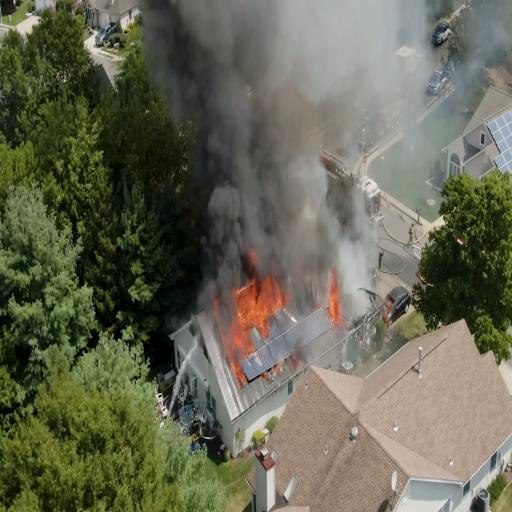fire: (211, 272, 287, 378), (323, 267, 342, 322)
smoke: (230, 116, 311, 254)
